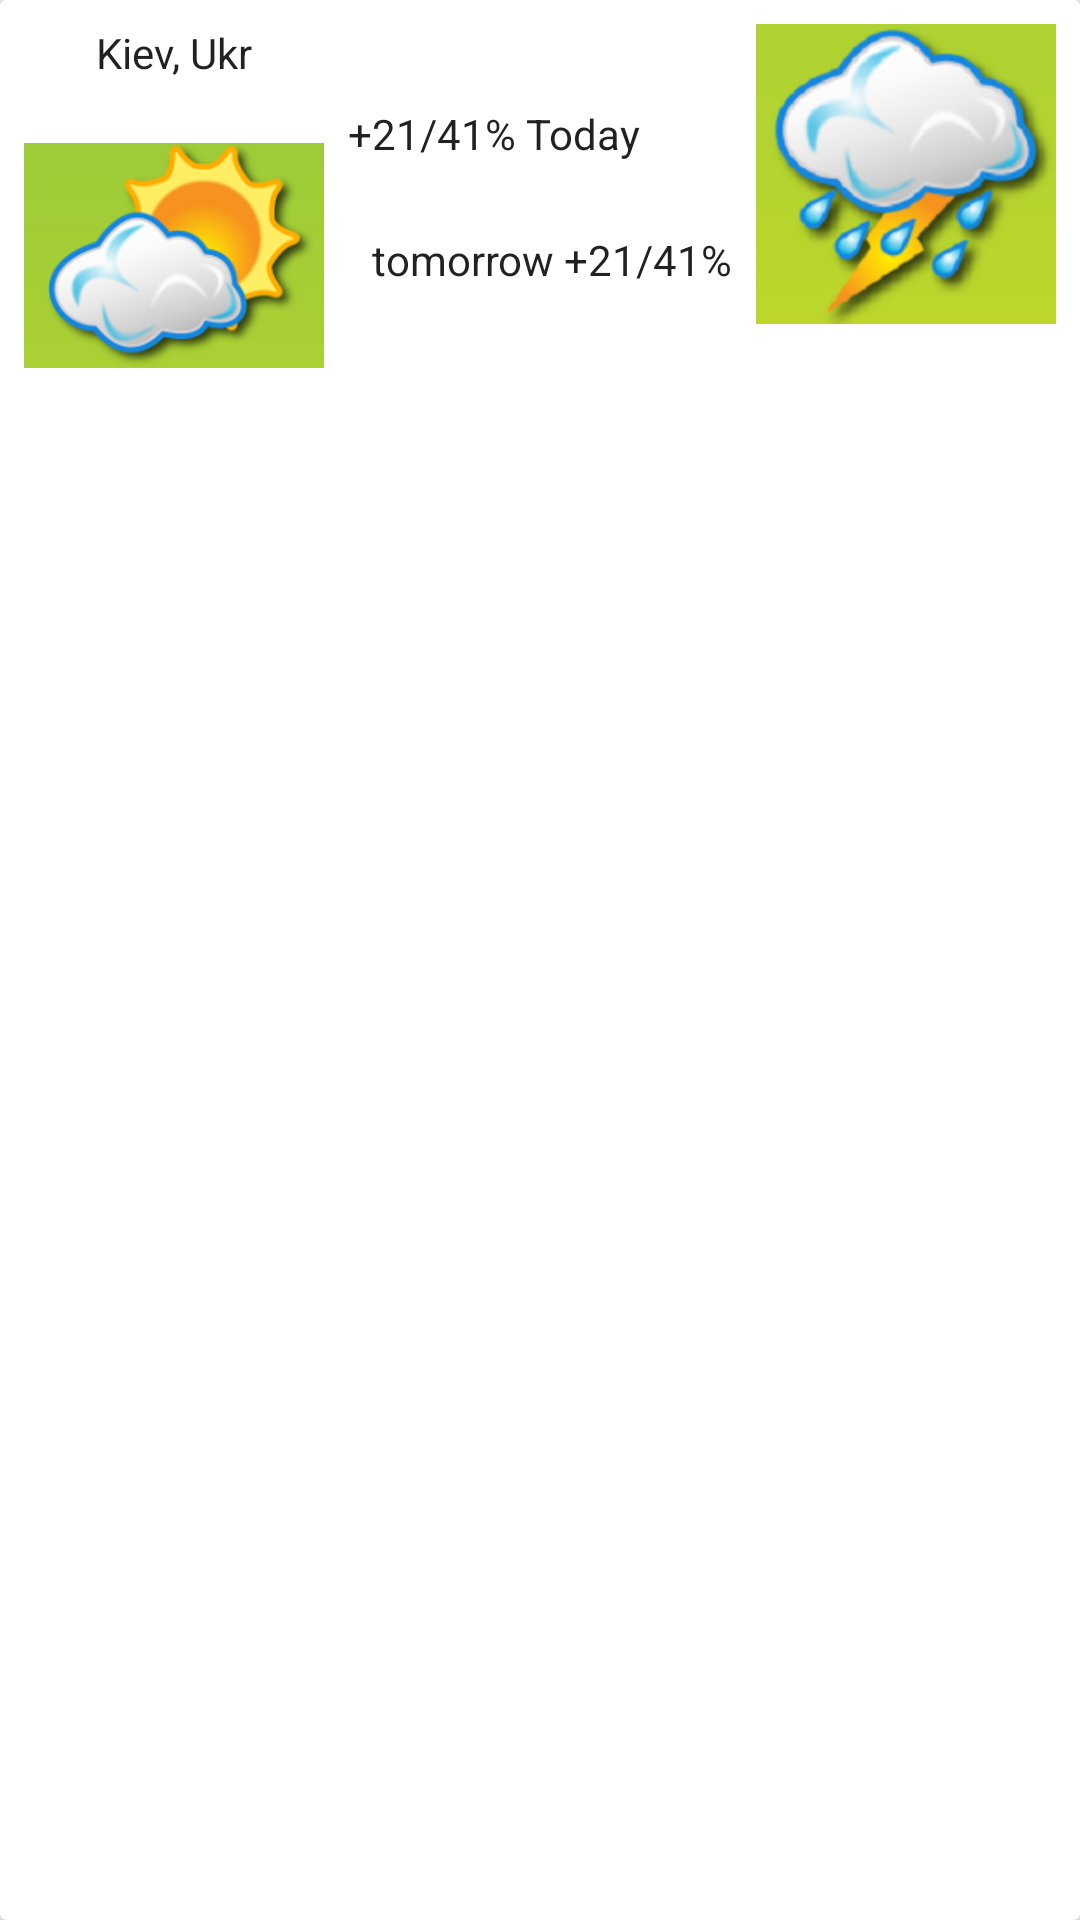

Icon click points for this 1080 × 1920 phone screenshot, format (x=x, y=y):
rain with thunderstorm: (x=906, y=174)
sun and clouds: (x=174, y=255)
